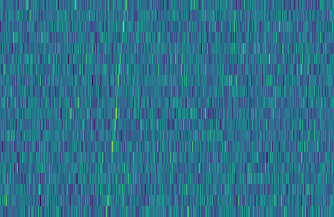signal: (100, 0, 129, 217)
